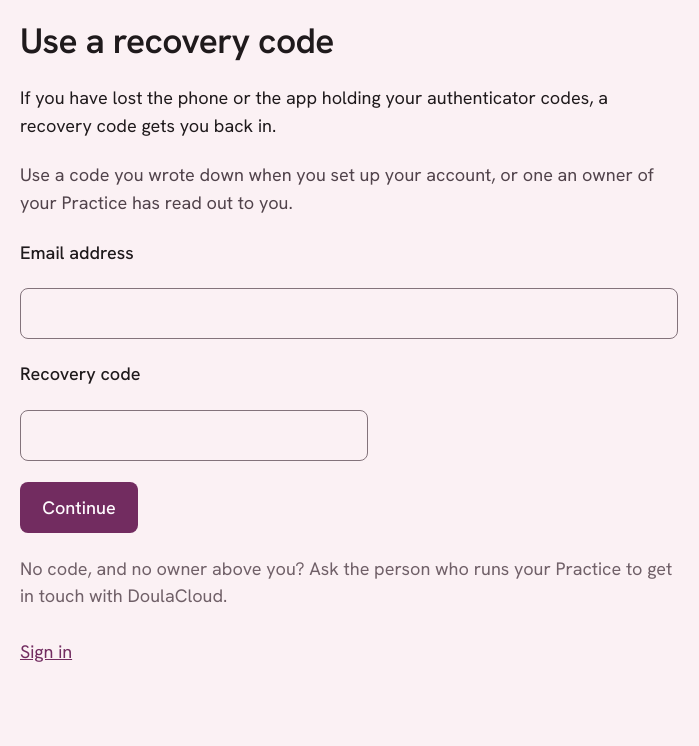
Test case: spending a recovery code › shows the endpoint's one refusal, and points it at neither field
Type "nobody@example.test" into the field labelled "Email address" at (349, 314), box x1=20 y1=288 x2=678 y2=339
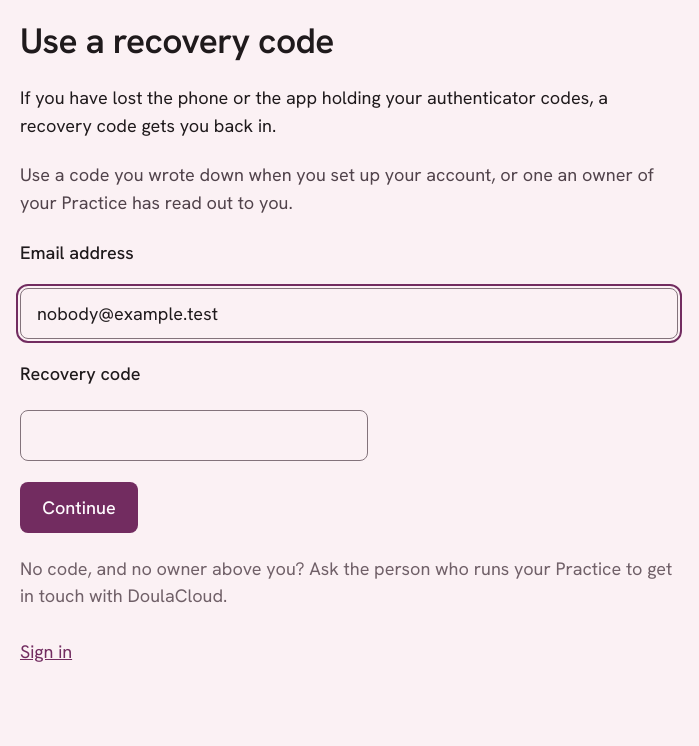
Type "nope" into the field labelled "Recovery code" at (194, 435), box x1=20 y1=410 x2=368 y2=461
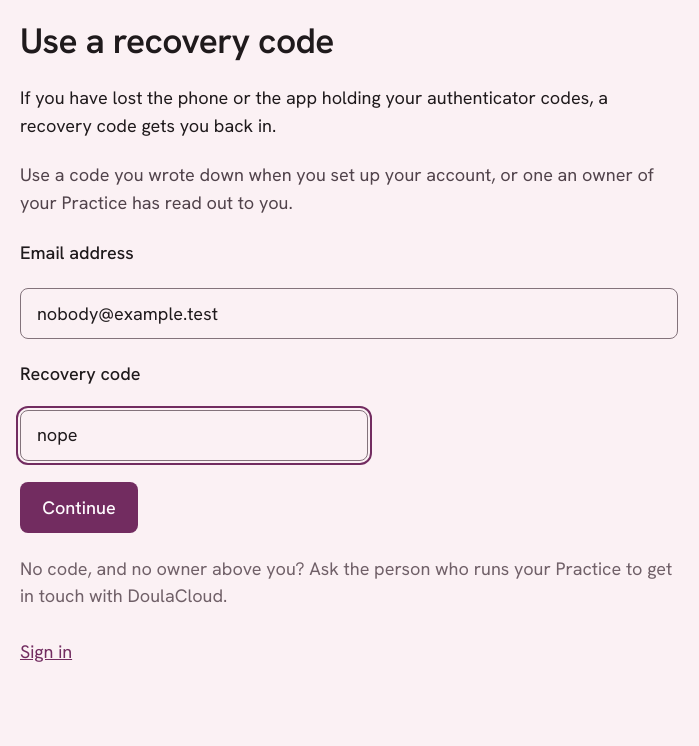
Click the button "Continue" at (79, 508), box x1=20 y1=482 x2=138 y2=533
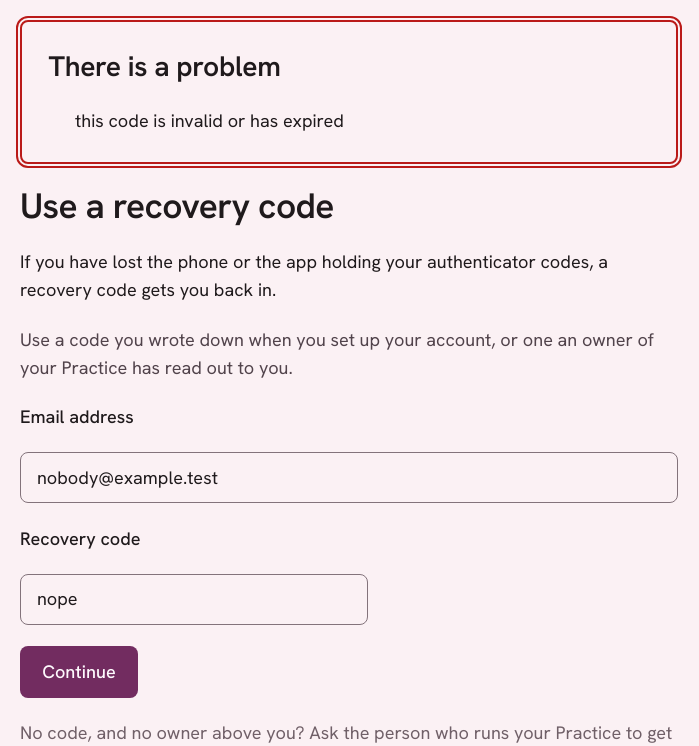
Now the list item "this code is invalid or has expired" is shown, box x1=75 y1=109 x2=344 y2=132
